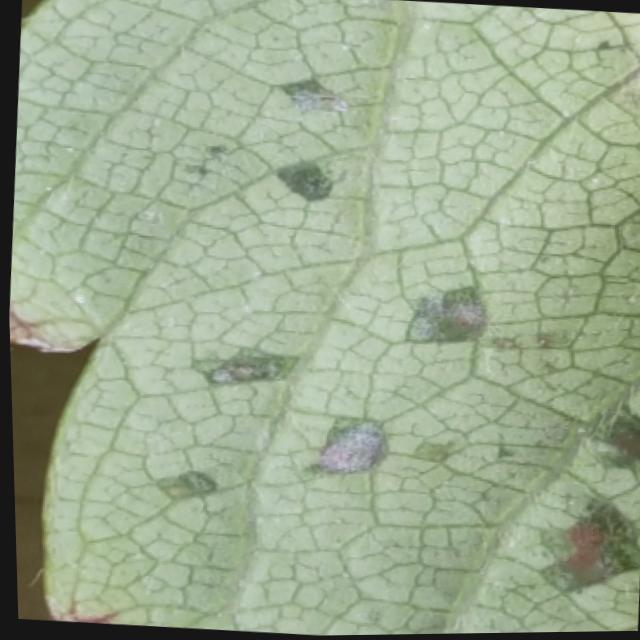Angular Leafspot: (7, 11, 640, 633)
